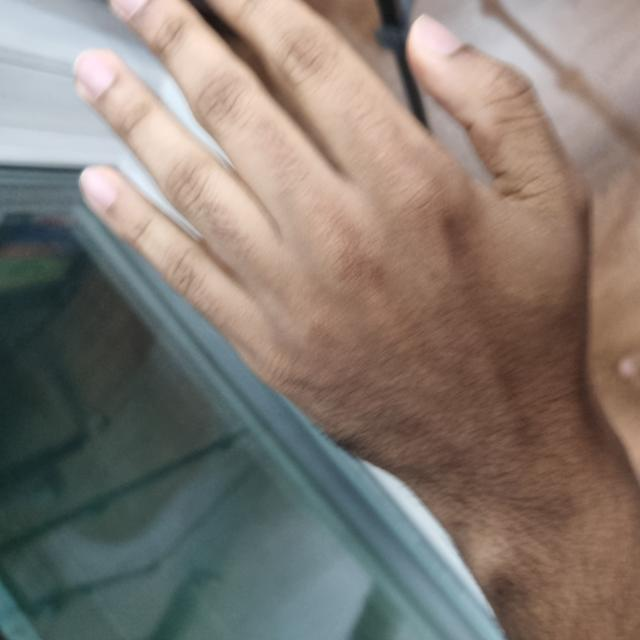Paper: (145, 79, 640, 585)
